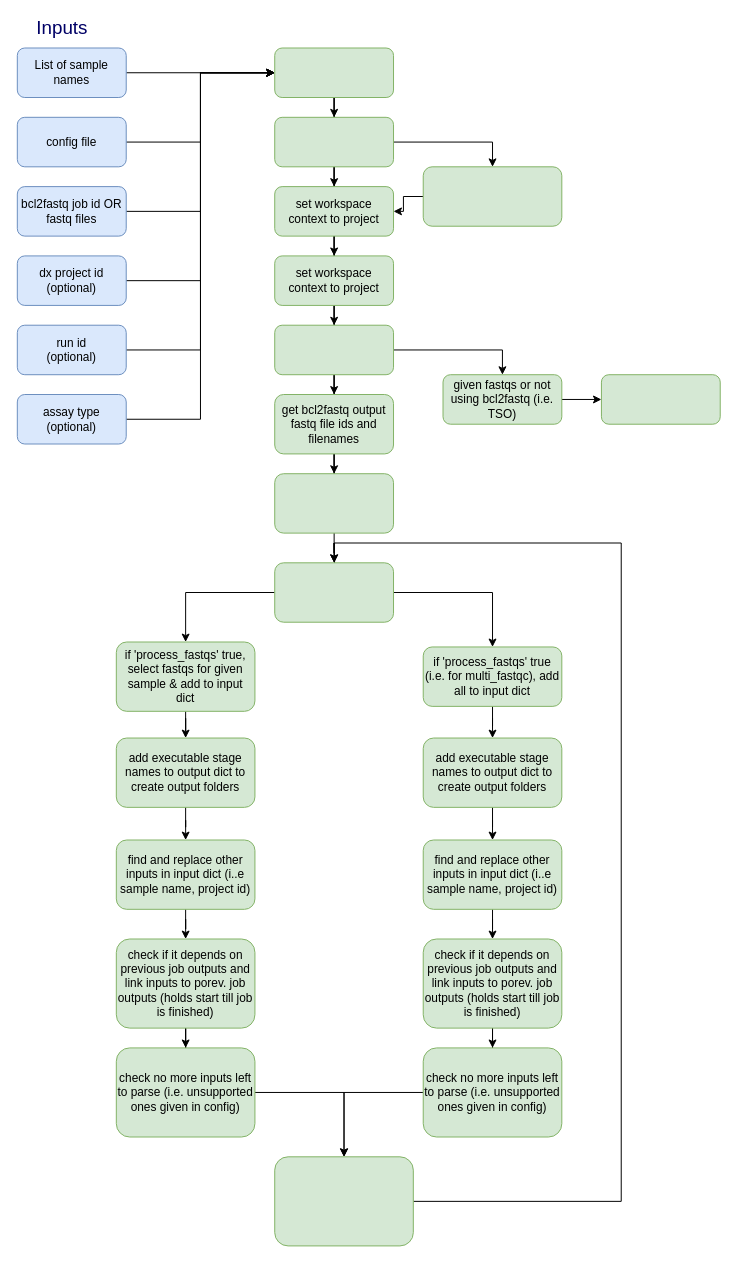
The diagram is 738 pixels wide and 1263 high, and some of its shapes have lost their labels. The shapes that lost their labels are listed below. From the top down, each one's centre as x and y in pixels, then its label:
At point (334, 72): "parse config file and other args".
At point (334, 141): "dx project id given".
At point (492, 196): "create project from run name and assay code (002_run_assay_code)".
At point (334, 349): "bcl2fastq id given".
At point (660, 399): "to do...".
At point (334, 503): "for each executable in config, parse it's values".
At point (334, 592): "check executable 'per_sample' value".
At point (343, 1201): "start job, returns job id".
